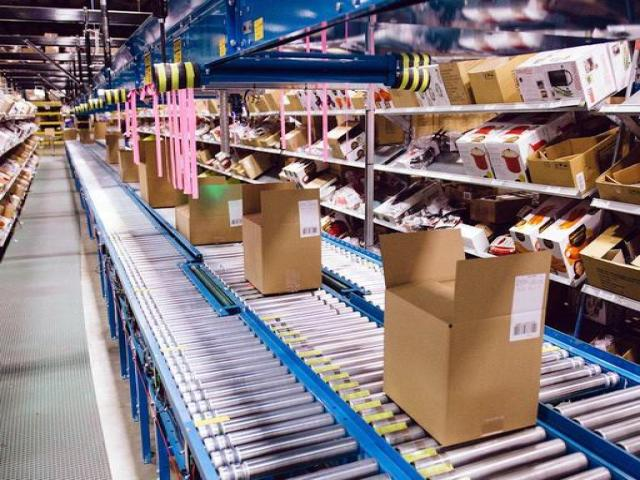conveyor: (60, 134, 639, 479)
